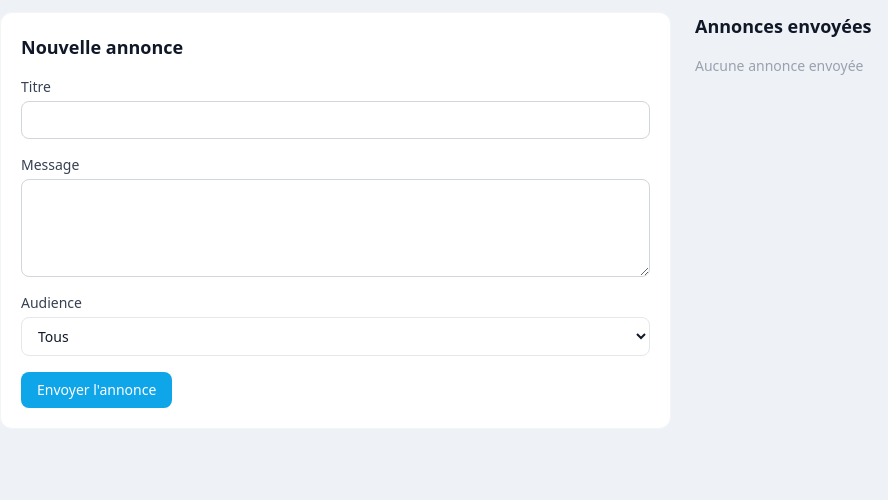
Test: AnnouncementsTab › choisir une classe de lycée fait apparaître le select série
This screenshot has width=888, height=500.
Select "Classe précise" in the dropdown at (336, 336), box [21,317,650,356]
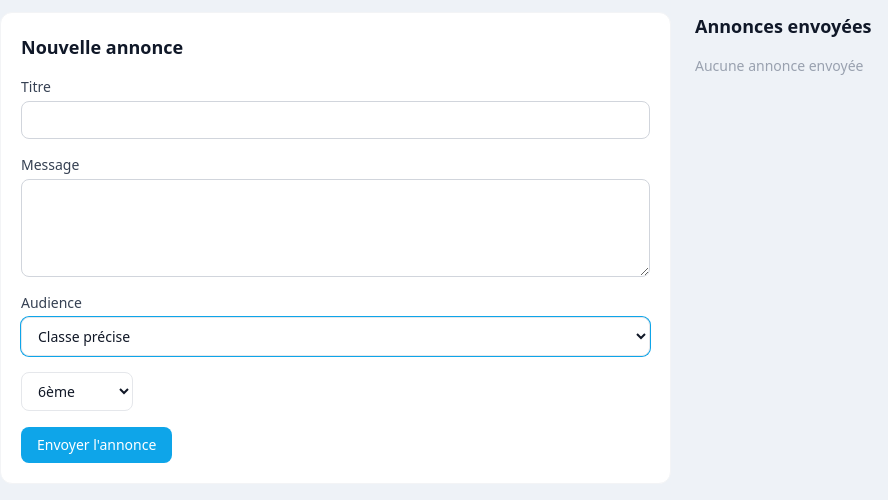
Select "Terminale" in the 2nd dropdown at (77, 392), box [21,372,133,411]
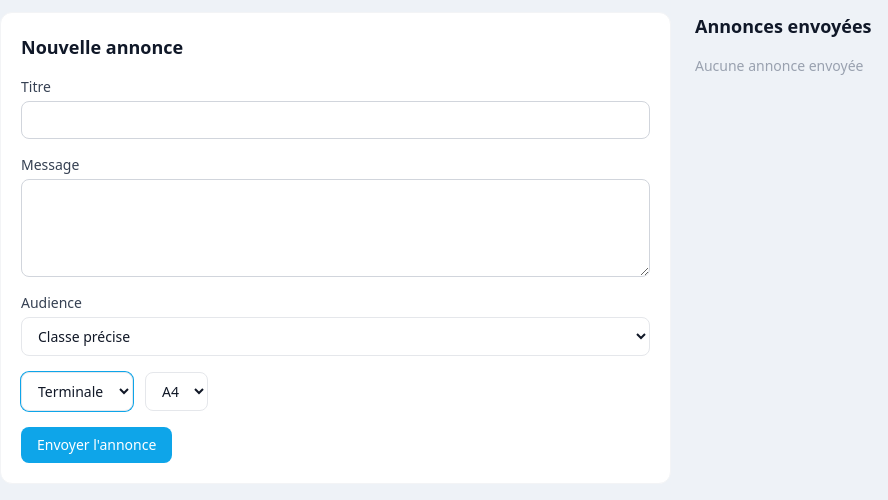
expect the number of dropdowns is 3: met, box [21,317,650,356]; [21,372,133,411]; [145,372,208,411]
